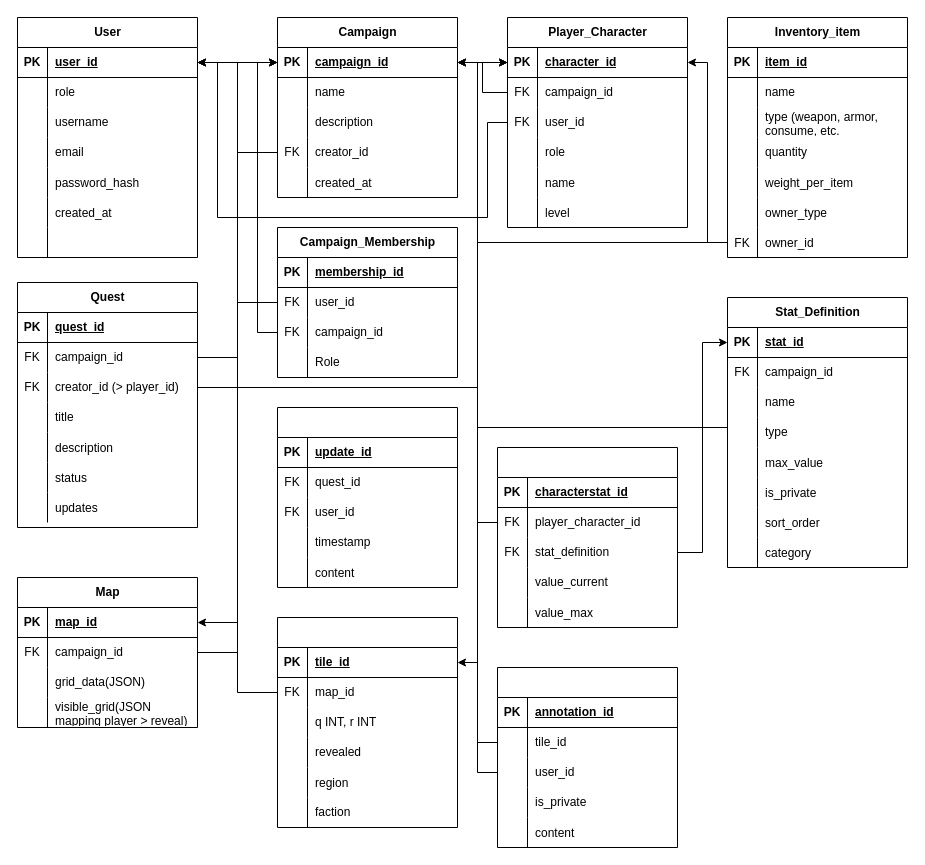
Some shapes in this 925 by 865 pixel diagram are drawn without their labels. The box of each missing label's shape, as (x1, y1, x2, y2) in pixels:
Map_Annotation: (496, 666, 678, 848)
Map_Tile: (276, 616, 458, 828)
Player_Character_Stat: (496, 446, 678, 628)
Quest_Updates: (276, 406, 458, 588)
